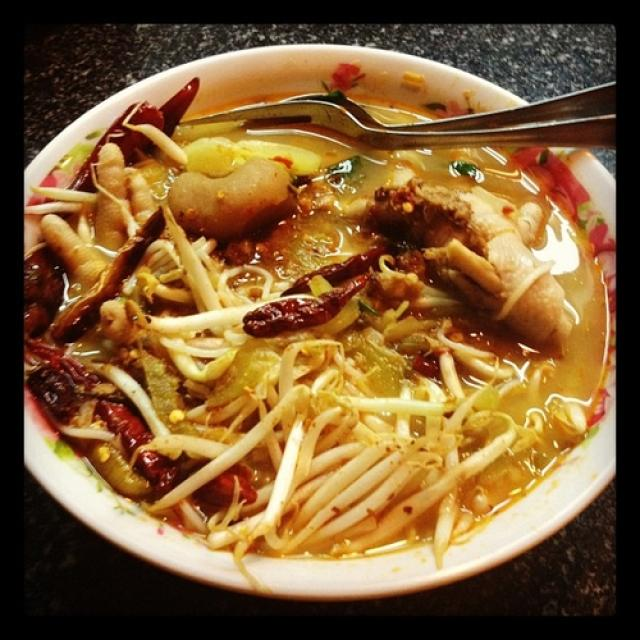面条主食: (29, 32, 616, 616)
